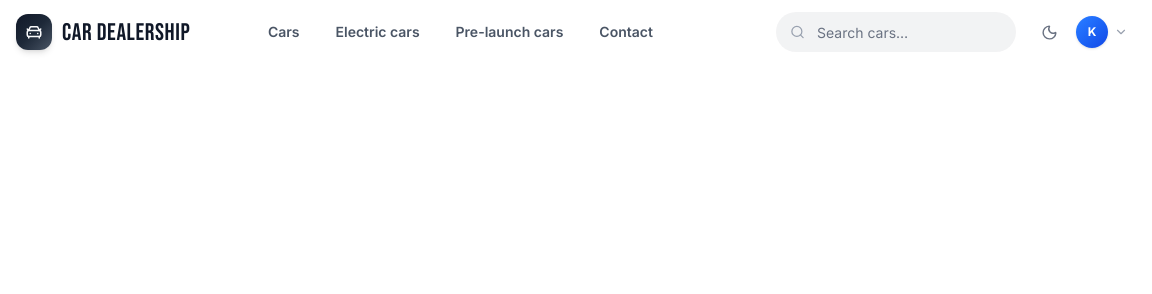
Test: Navbar › shows the admin item to admins
Click the button named "account". click: (1104, 32)
box: [1072,12,1136,52]
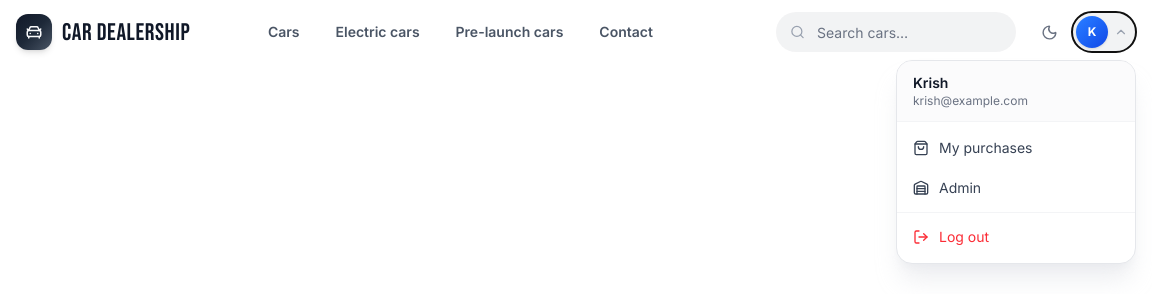
Result: the link "Admin" is shown at [913,179,981,196]
